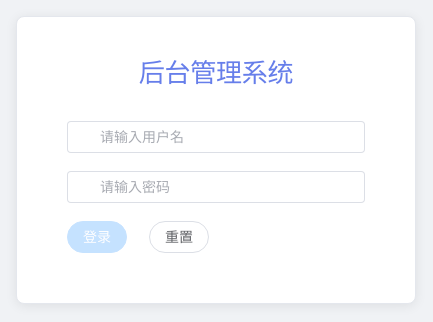
Scenario: 登录页 › 重置按钮清空表单并重新禁用登录按钮
Step 1. Type "admin" into the field with placeholder "请输入用户名" → (227, 137), box [100, 122, 354, 152]
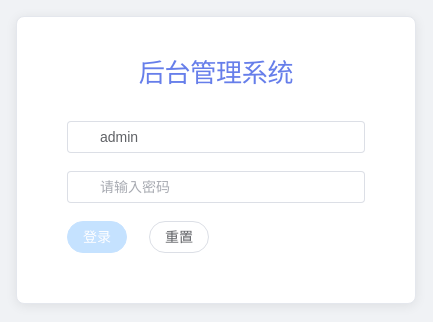
Step 2. Type "123456" into the password field with placeholder "请输入密码" → (227, 187), box [100, 172, 354, 202]
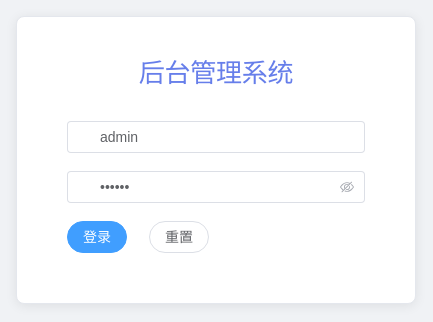
Step 3. Click the button "重置" → (179, 237), box [149, 221, 209, 253]
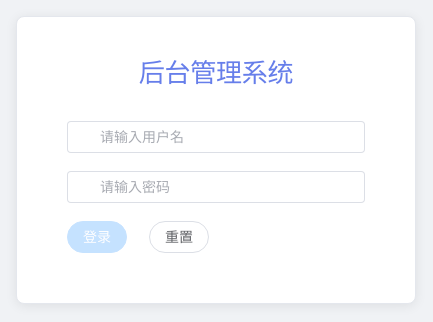
Result: the field with placeholder "请输入用户名" is empty at [100, 122, 354, 152]
Result: the password field with placeholder "请输入密码" is empty at [100, 172, 354, 202]
Result: the button "登录" is disabled at [67, 221, 127, 253]
